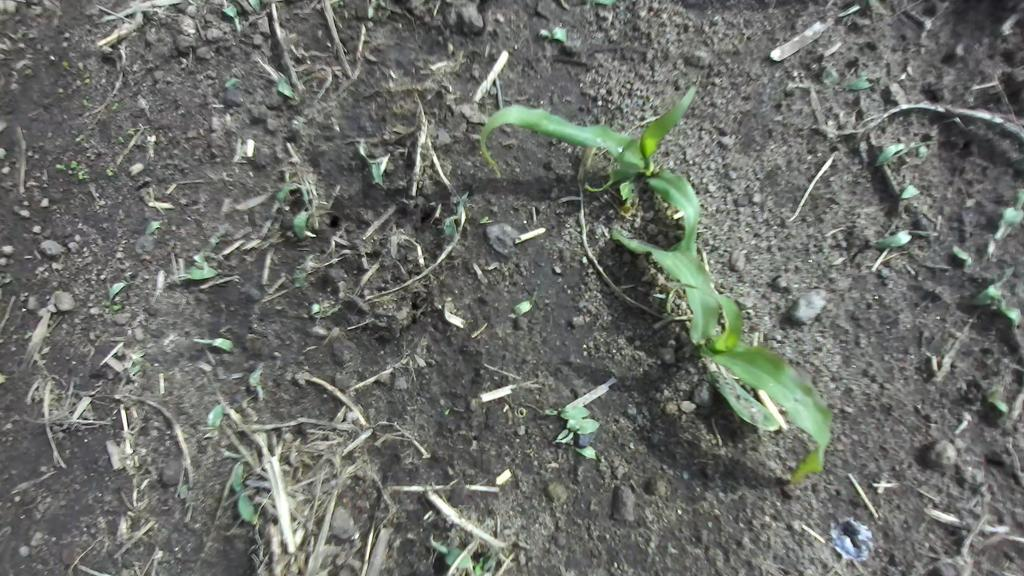BroWeed: (969, 263, 1022, 316), (420, 531, 478, 576), (867, 221, 938, 256), (226, 462, 260, 526), (547, 414, 602, 449), (438, 187, 472, 241), (288, 184, 317, 242), (191, 327, 238, 355), (202, 397, 229, 442), (869, 137, 906, 169), (269, 177, 301, 214), (900, 143, 933, 177), (551, 413, 586, 442), (290, 250, 315, 290), (98, 276, 127, 309), (815, 55, 842, 90), (951, 240, 977, 276), (835, 73, 874, 97), (272, 74, 300, 107), (174, 261, 217, 282), (200, 225, 225, 260), (511, 290, 541, 317), (984, 384, 1009, 416), (127, 346, 147, 378), (248, 361, 264, 401), (542, 406, 591, 419), (537, 23, 568, 43), (213, 441, 243, 461), (895, 178, 921, 201), (134, 234, 155, 261), (142, 216, 164, 241), (188, 249, 209, 274), (309, 303, 341, 319), (473, 549, 491, 576), (367, 161, 385, 188), (573, 446, 598, 461), (440, 290, 455, 314), (76, 167, 92, 183), (177, 480, 190, 499), (587, 0, 617, 8), (103, 162, 118, 177), (115, 343, 130, 358), (225, 77, 241, 89), (80, 97, 94, 110), (110, 300, 125, 312), (156, 564, 168, 576), (61, 59, 72, 70), (110, 100, 120, 112), (447, 41, 454, 57), (81, 69, 91, 80), (0, 119, 7, 134), (0, 147, 7, 161), (23, 66, 33, 75), (70, 160, 79, 169), (135, 369, 145, 377), (77, 61, 84, 72), (55, 163, 66, 170), (444, 407, 451, 417), (82, 77, 91, 84), (68, 169, 78, 175)
Maize: (595, 190, 864, 493), (479, 83, 700, 262)
